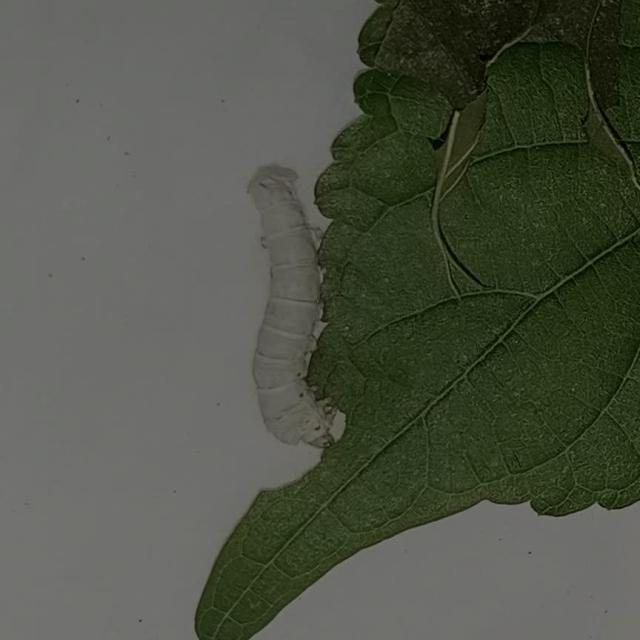Healthy: (227, 135, 370, 471)
